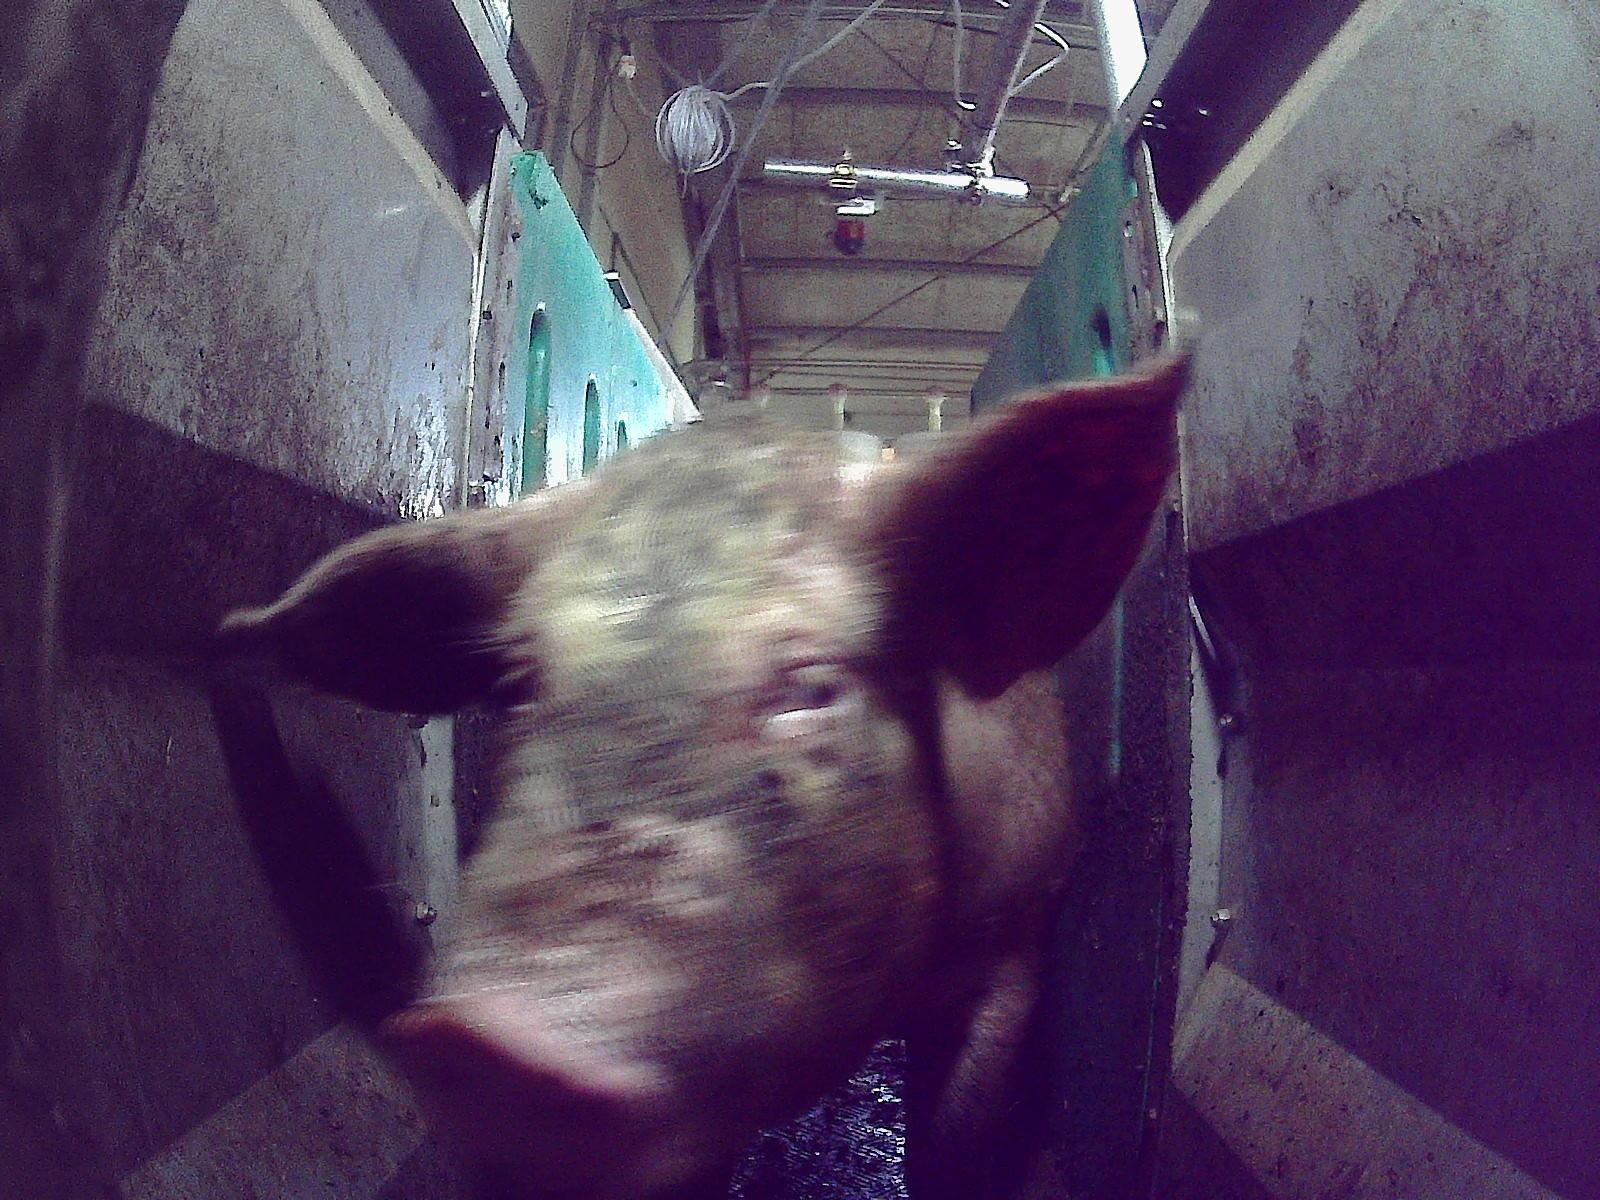Face: (374, 417, 986, 1199)
